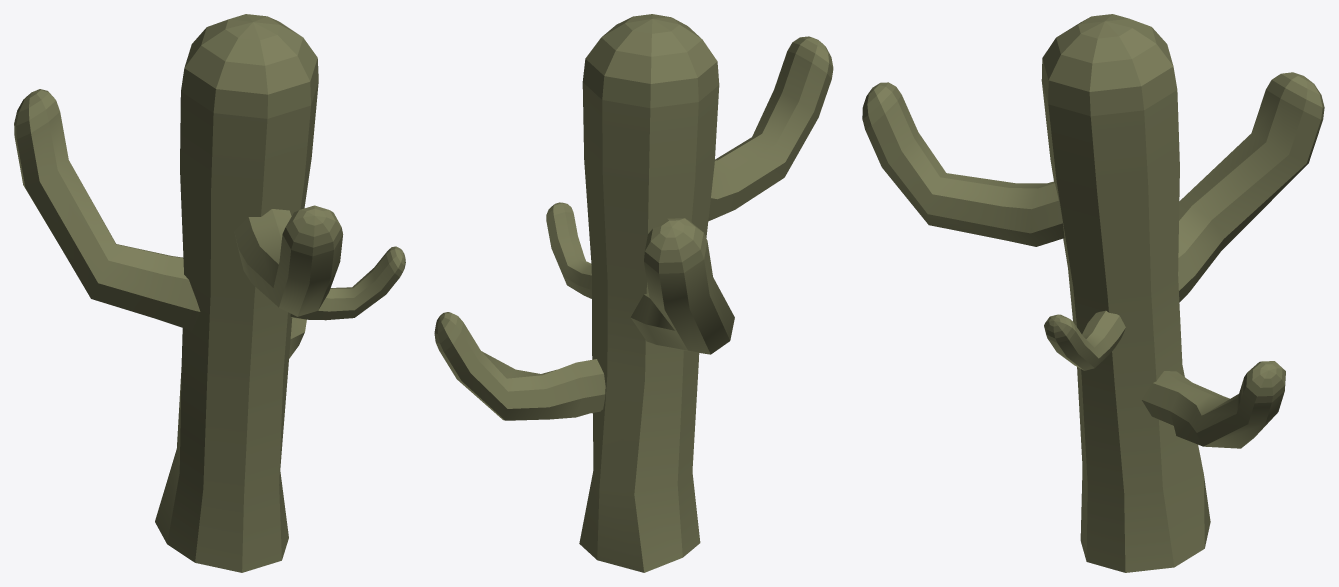
Rendered from cactus.fbx.
The picture shows the model from 3 angles, left to right: view 1: azimuth 30°, elevation 25°; view 2: azimuth 150°, elevation 25°; view 3: azimuth 270°, elevation 25°; orthographic projection. The views are drawn at different scales.
Parts seen in each view (by area): view 1: polySurface25; view 2: polySurface25; view 3: polySurface25.
Boxes of the visible parts, x1=… form: polySurface25: x1=14, y1=14, x2=405, y2=572; polySurface25: x1=434, y1=14, x2=833, y2=572; polySurface25: x1=862, y1=14, x2=1324, y2=572.
Size of the model in its own units: 22.34 by 39.19 by 30.91.
